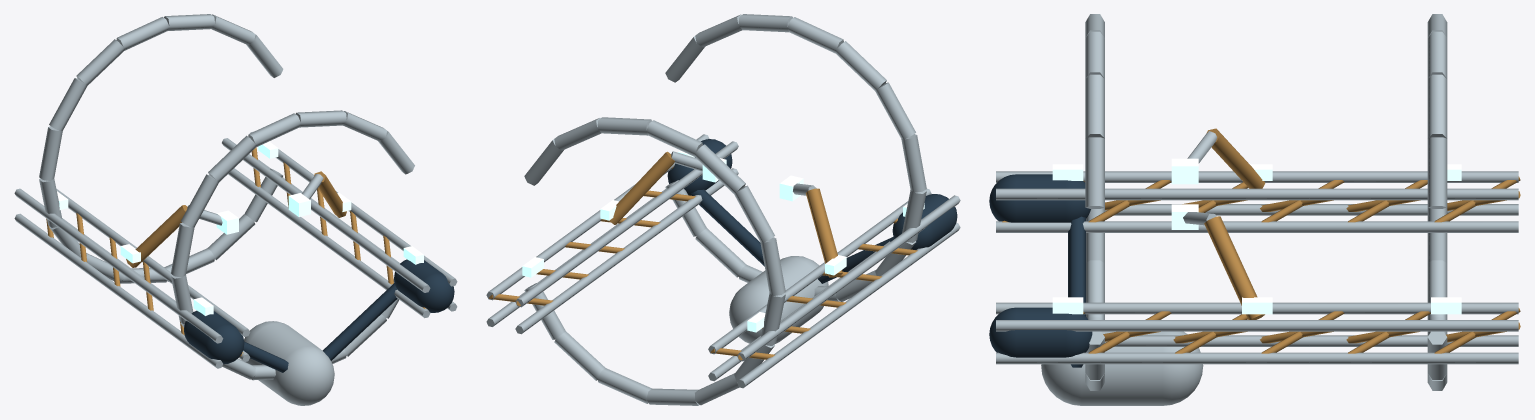
The model's file is base-shipyard.glb.
The picture shows the model from 3 angles, left to right: view 1: azimuth 30°, elevation 25°; view 2: azimuth 150°, elevation 25°; view 3: azimuth 270°, elevation 25°; orthographic projection. The views are drawn at different scales.
Parts seen in each view (by area): view 1: _MeshInstance3D_274, _MeshInstance3D_207, _MeshInstance3D_209, _MeshInstance3D_228, _MeshInstance3D_226, _MeshInstance3D_222, _MeshInstance3D_242, _MeshInstance3D_206, _MeshInstance3D_276, _MeshInstance3D_227, _MeshInstance3D_278, _MeshInstance3D_251 (+25 smaller); view 2: _MeshInstance3D_274, _MeshInstance3D_207, _MeshInstance3D_209, _MeshInstance3D_226, _MeshInstance3D_228, _MeshInstance3D_206, _MeshInstance3D_222, _MeshInstance3D_276, _MeshInstance3D_227, _MeshInstance3D_281, _MeshInstance3D_278, _MeshInstance3D_251 (+30 smaller); view 3: _MeshInstance3D_229, _MeshInstance3D_206, _MeshInstance3D_274, _MeshInstance3D_227, _MeshInstance3D_208, _MeshInstance3D_226, _MeshInstance3D_207, _MeshInstance3D_242, _MeshInstance3D_222, _MeshInstance3D_228, _MeshInstance3D_209, _MeshInstance3D_281 (+22 smaller).
Boxes of the visible parts, left/top/right/bottom form: _MeshInstance3D_274: left=244, top=321, right=334, bottom=405; _MeshInstance3D_207: left=14, top=188, right=223, bottom=343; _MeshInstance3D_209: left=14, top=213, right=222, bottom=368; _MeshInstance3D_228: left=228, top=168, right=430, bottom=318; _MeshInstance3D_226: left=222, top=138, right=430, bottom=292; _MeshInstance3D_222: left=184, top=310, right=244, bottom=364; _MeshInstance3D_242: left=394, top=259, right=454, bottom=312; _MeshInstance3D_206: left=56, top=189, right=250, bottom=336; _MeshInstance3D_276: left=322, top=283, right=397, bottom=360; _MeshInstance3D_227: left=250, top=131, right=457, bottom=286; _MeshInstance3D_278: left=126, top=205, right=187, bottom=267; _MeshInstance3D_251: left=49, top=78, right=87, bottom=130; _MeshInstance3D_274: left=729, top=256, right=828, bottom=343; _MeshInstance3D_207: left=737, top=195, right=960, bottom=361; _MeshInstance3D_209: left=737, top=223, right=960, bottom=388; _MeshInstance3D_226: left=515, top=141, right=738, bottom=307; _MeshInstance3D_228: left=515, top=168, right=738, bottom=334; _MeshInstance3D_206: left=708, top=188, right=931, bottom=354; _MeshInstance3D_222: left=892, top=194, right=957, bottom=249; _MeshInstance3D_276: left=691, top=189, right=764, bottom=266; _MeshInstance3D_227: left=486, top=134, right=709, bottom=300; _MeshInstance3D_281: left=609, top=151, right=674, bottom=224; _MeshInstance3D_278: left=806, top=188, right=842, bottom=277; _MeshInstance3D_251: left=734, top=185, right=774, bottom=242; _MeshInstance3D_229: left=996, top=352, right=1518, bottom=364; _MeshInstance3D_206: left=996, top=188, right=1518, bottom=200; _MeshInstance3D_274: left=1041, top=331, right=1203, bottom=405; _MeshInstance3D_227: left=996, top=320, right=1518, bottom=331; _MeshInstance3D_208: left=996, top=221, right=1518, bottom=232; _MeshInstance3D_226: left=996, top=302, right=1518, bottom=314; _MeshInstance3D_207: left=996, top=171, right=1518, bottom=182; _MeshInstance3D_242: left=989, top=307, right=1092, bottom=357; _MeshInstance3D_222: left=989, top=174, right=1090, bottom=222; _MeshInstance3D_228: left=1105, top=335, right=1518, bottom=346; _MeshInstance3D_209: left=1105, top=204, right=1518, bottom=215; _MeshInstance3D_281: left=1204, top=216, right=1264, bottom=319.
Bounding box in the file's own units: 4.14 × 4.54 × 5.9.
